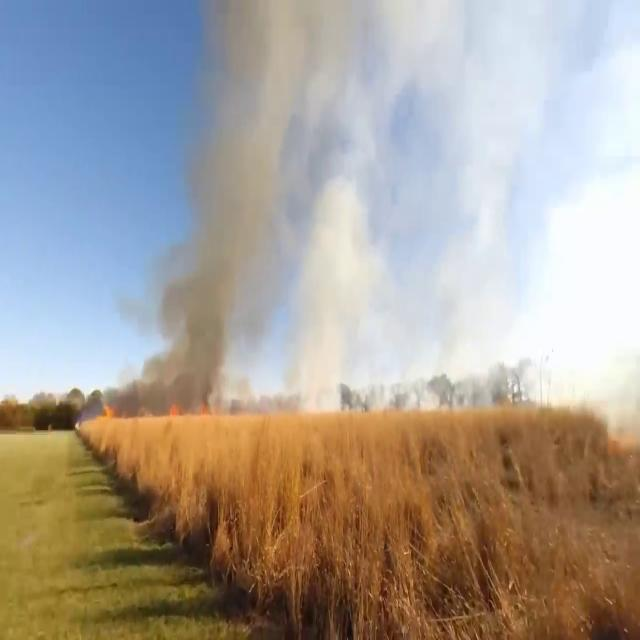Smoke: (133, 1, 385, 412)
